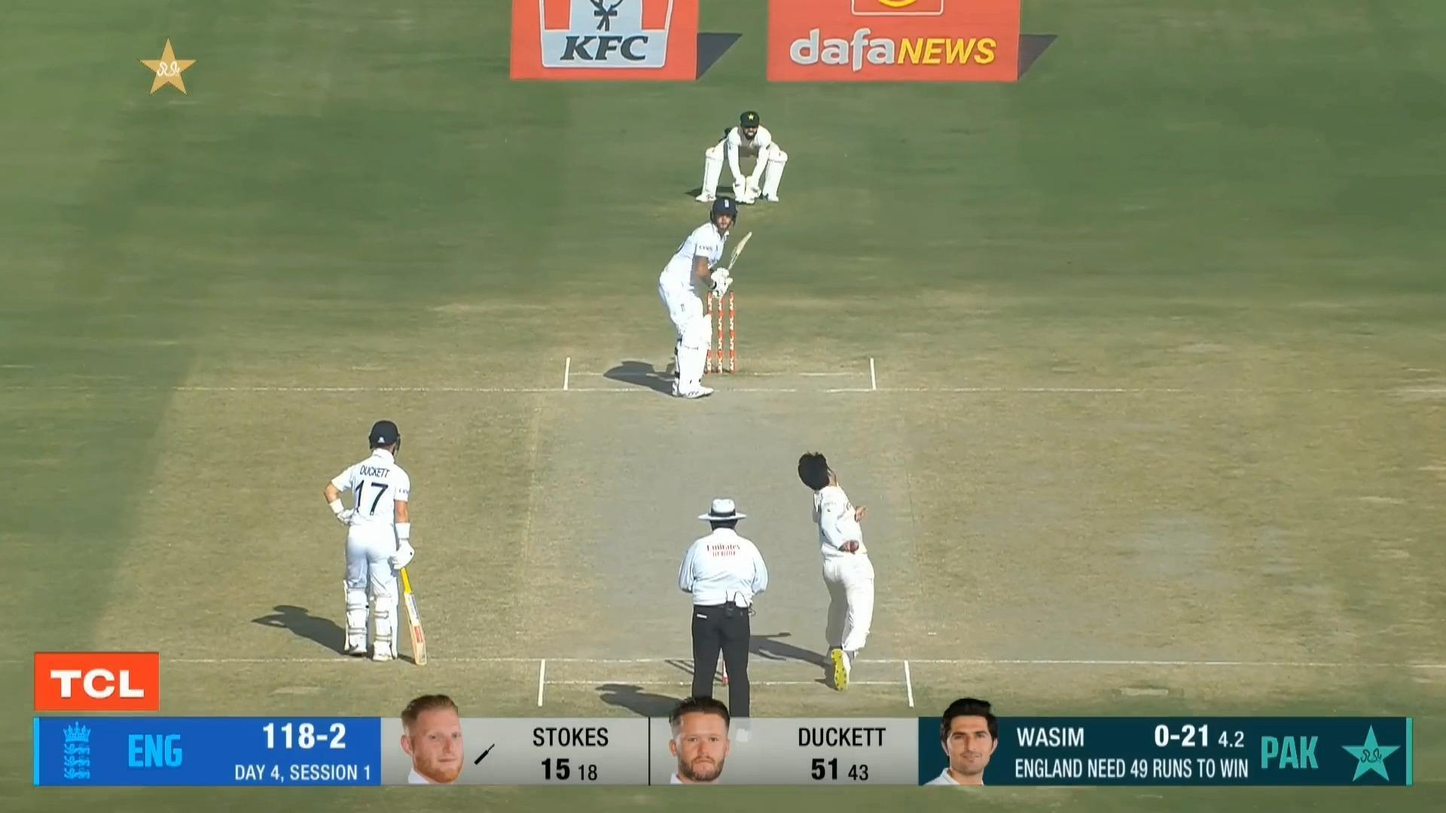BM 1: (658, 197, 754, 399)
BO: (799, 449, 875, 692)
